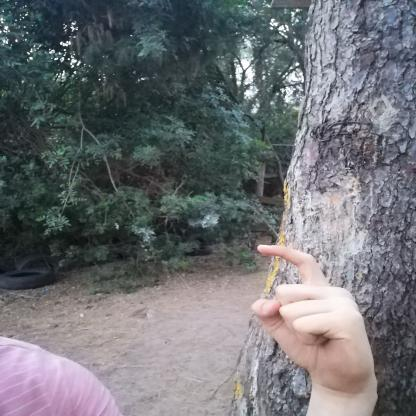RAA: (236, 235, 398, 395)
